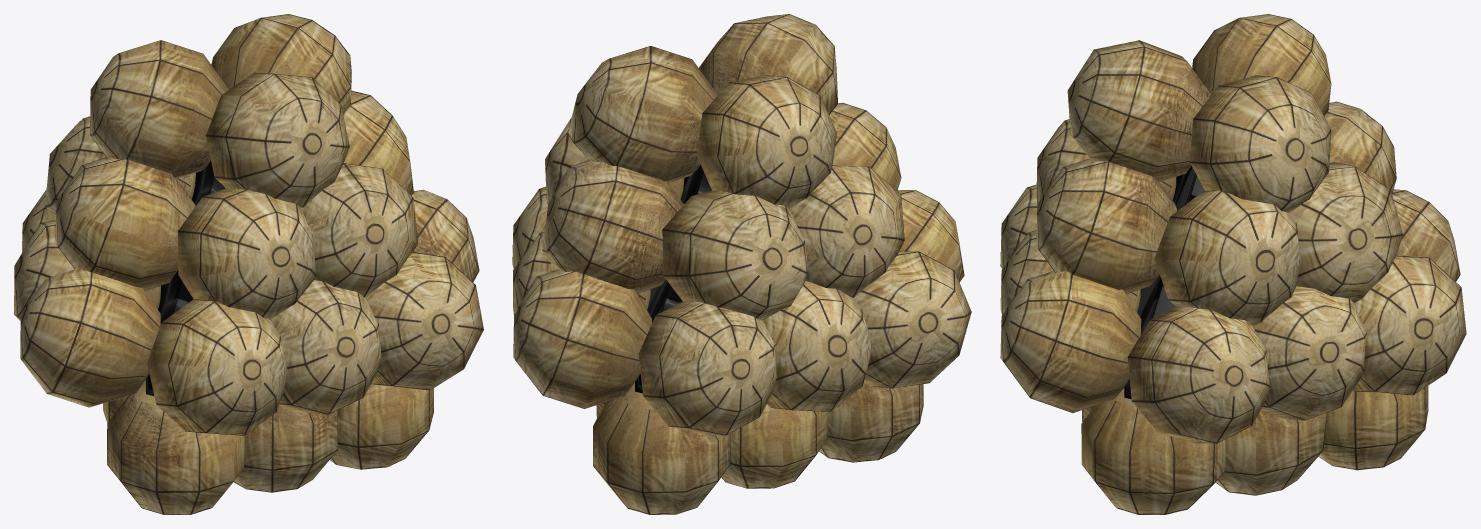
File: bubble_lander.dae
3 views of the same model, side by side, from view 1: azimuth 30°, elevation 25°; view 2: azimuth 150°, elevation 25°; view 3: azimuth 270°, elevation 25° (orthographic).
Bounding box in the file's own units: 7.45 × 6.7 × 6.64.
Materials: 1 (1 with a texture image).
